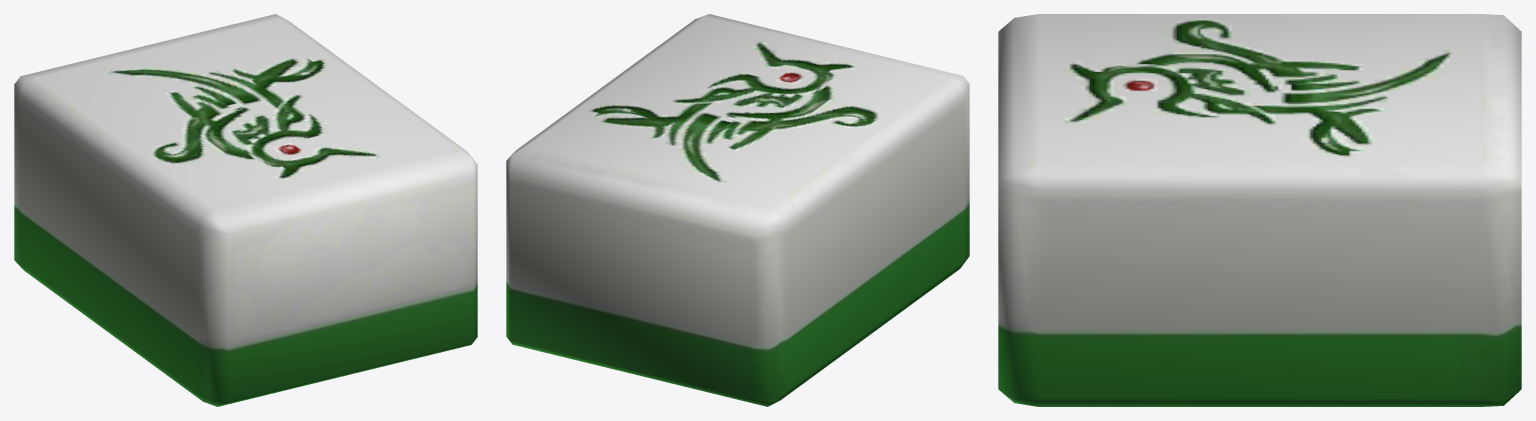
The model's file is mjpai01.FBX.
The picture shows the model from 3 angles, left to right: view 1: azimuth 30°, elevation 25°; view 2: azimuth 150°, elevation 25°; view 3: azimuth 270°, elevation 25°; orthographic projection. The views are drawn at different scales.
Visible parts, largest first — view 1: mjpai02_0; view 2: mjpai02_0; view 3: mjpai02_0.
Boxes of the visible parts, box(x1,y1,x2,y2) form: mjpai02_0: box(14, 14, 477, 406); mjpai02_0: box(506, 14, 969, 406); mjpai02_0: box(998, 14, 1521, 406).
Size of the model in its own units: 0.0339 by 0.0232 by 0.045.
